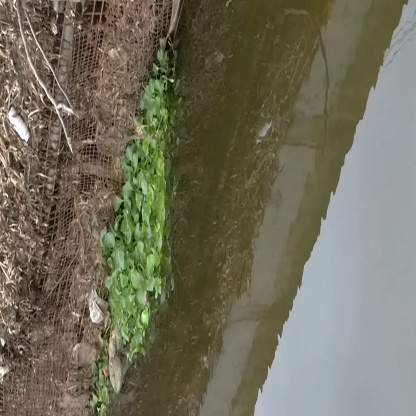grass: (118, 175, 170, 326)
